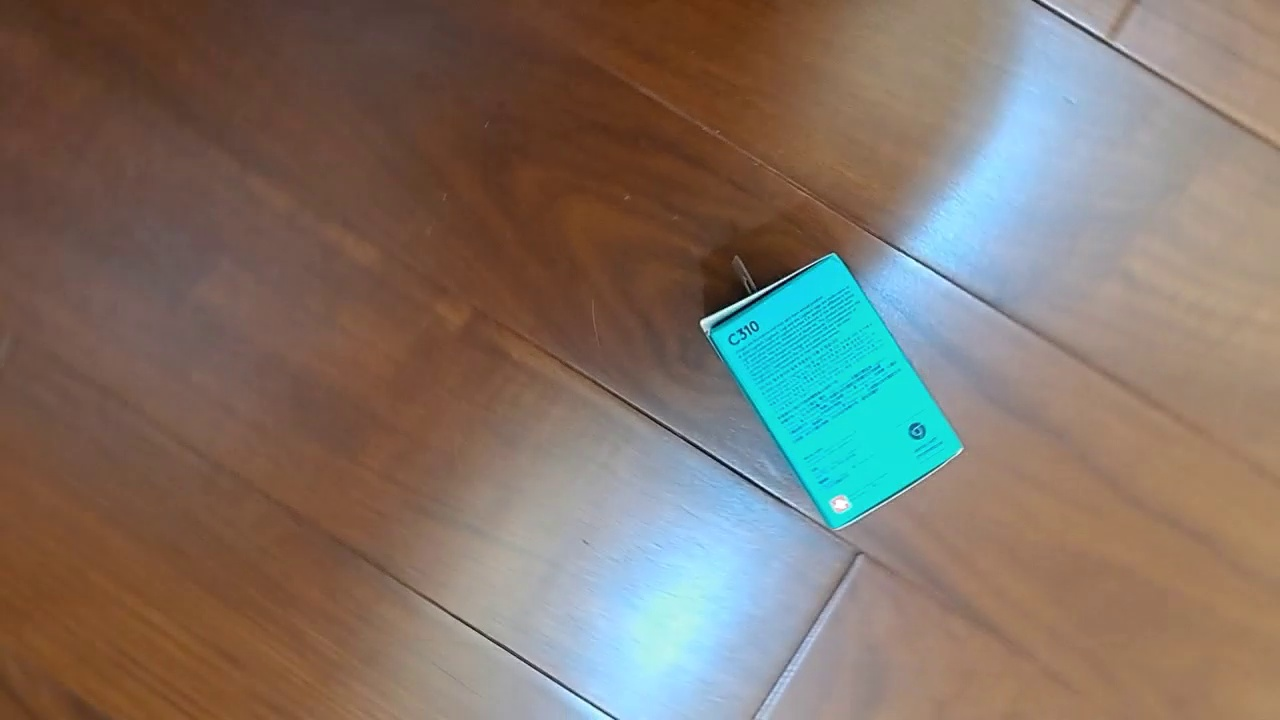webcam: (699, 251, 965, 531)
